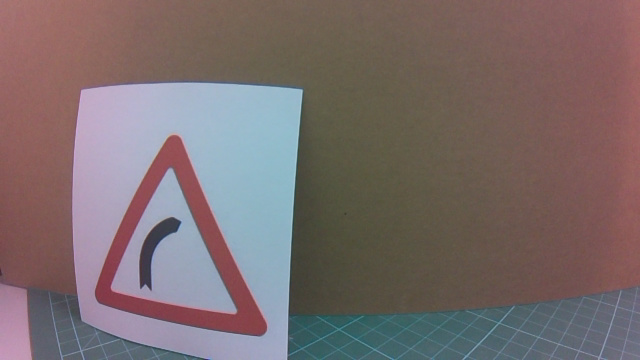right: (81, 156, 289, 324)
